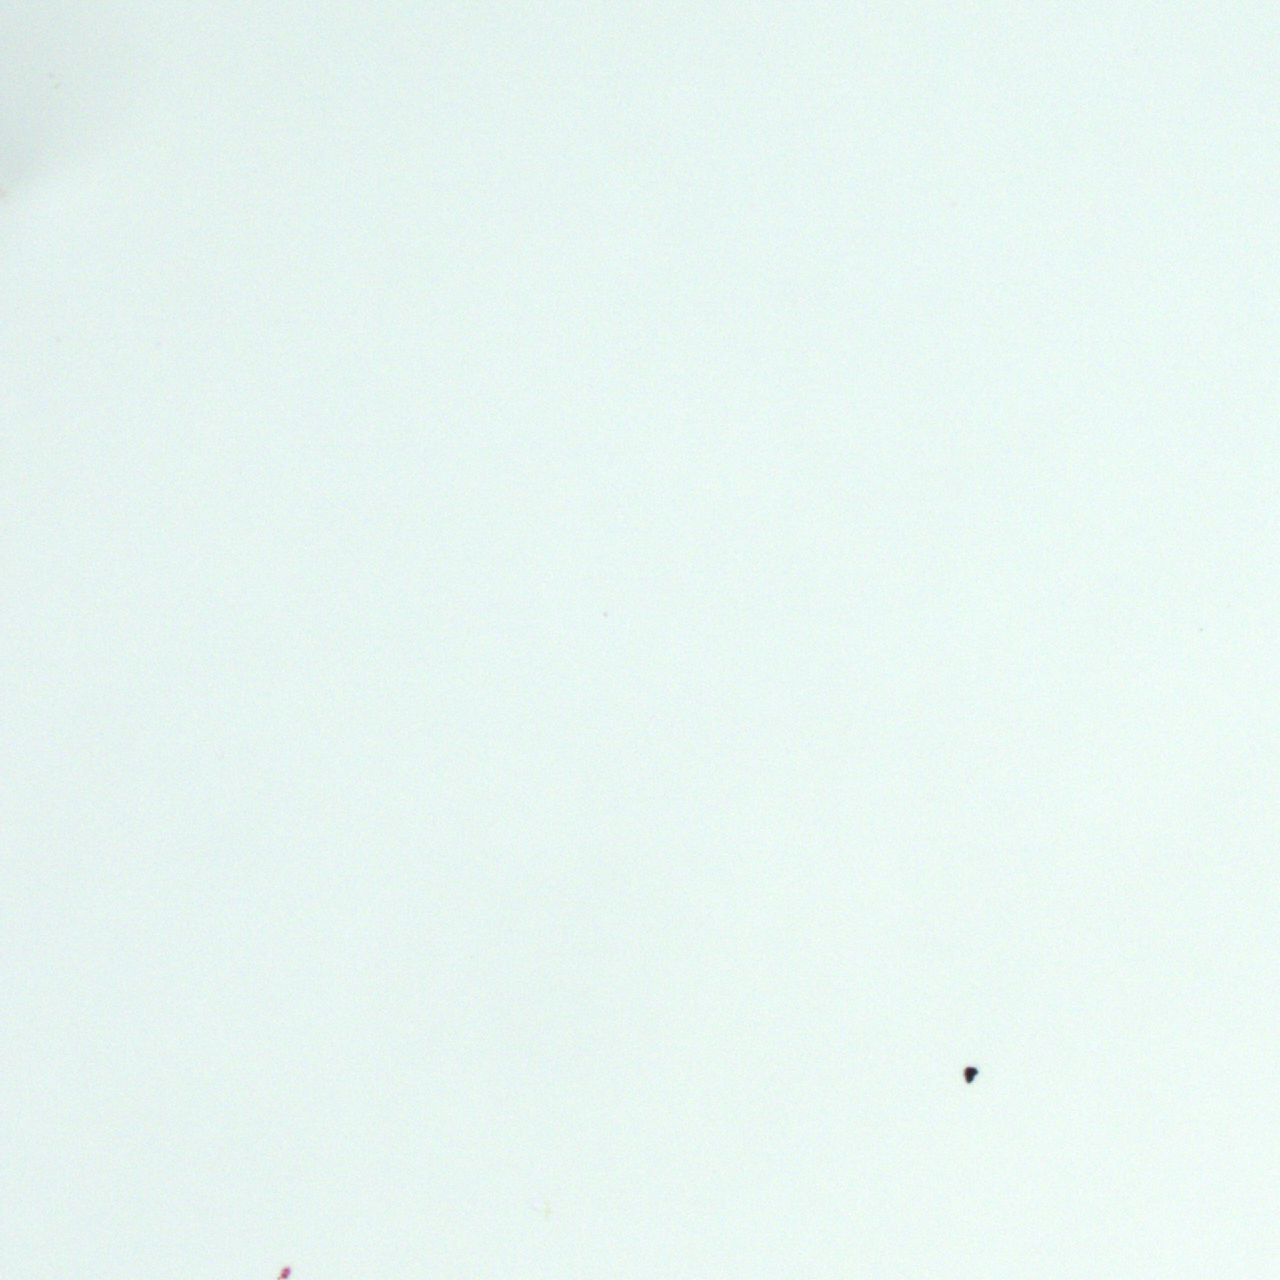dust: (963, 1065, 977, 1084)
